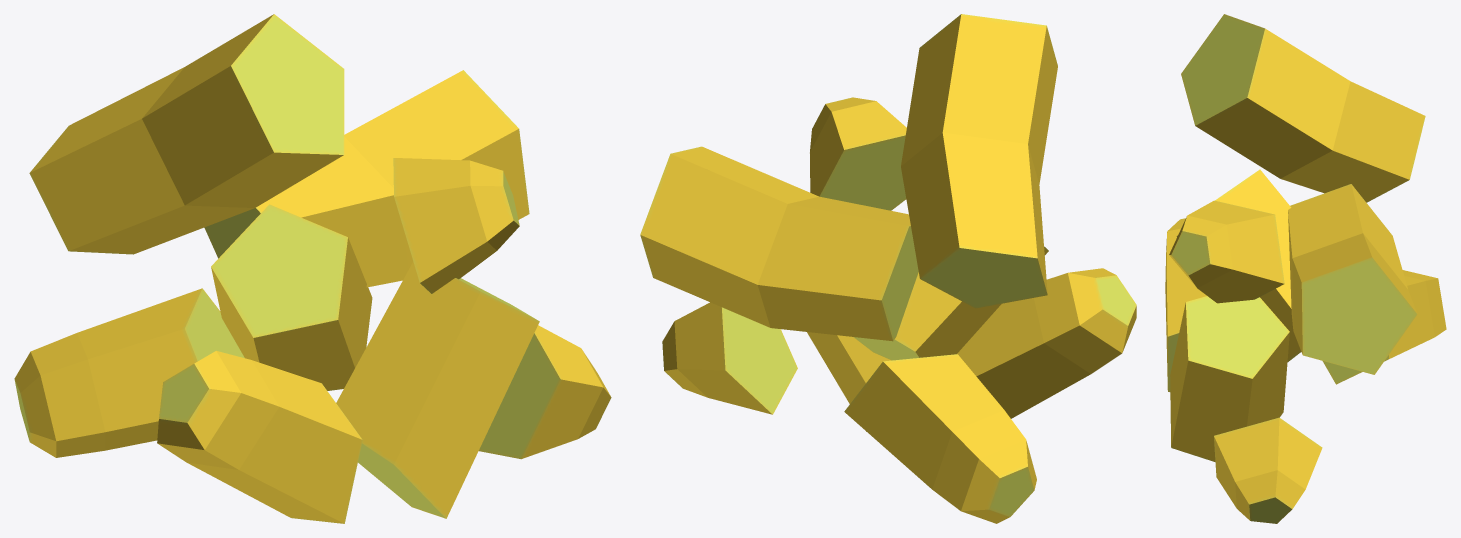
File: cut_banana.fbx
The picture shows the model from 3 angles, left to right: view 1: azimuth 30°, elevation 25°; view 2: azimuth 150°, elevation 25°; view 3: azimuth 270°, elevation 25°; orthographic projection. The views are drawn at different scales.
Parts seen in each view (by area): view 1: Cut_Bananana; view 2: Cut_Bananana; view 3: Cut_Bananana.
Boxes of the visible parts, left/top/right/bottom form: Cut_Bananana: left=14, top=14, right=611, bottom=523; Cut_Bananana: left=640, top=14, right=1136, bottom=523; Cut_Bananana: left=1165, top=14, right=1446, bottom=523.
Size of the model in its own units: 113 by 112 by 71.98.
